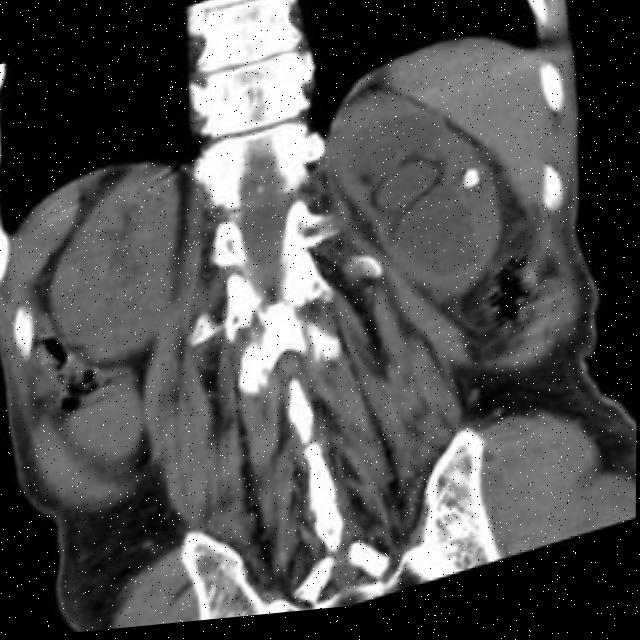Tas_Var: (457, 169, 481, 205)
